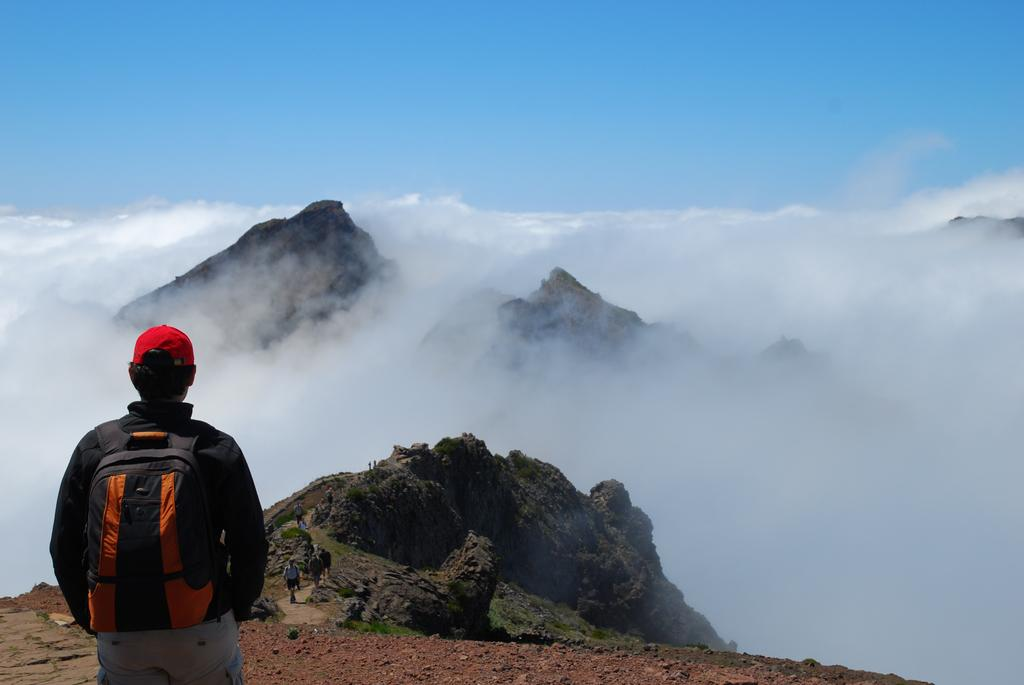Luggage-and-bags: (49, 421, 232, 638)
